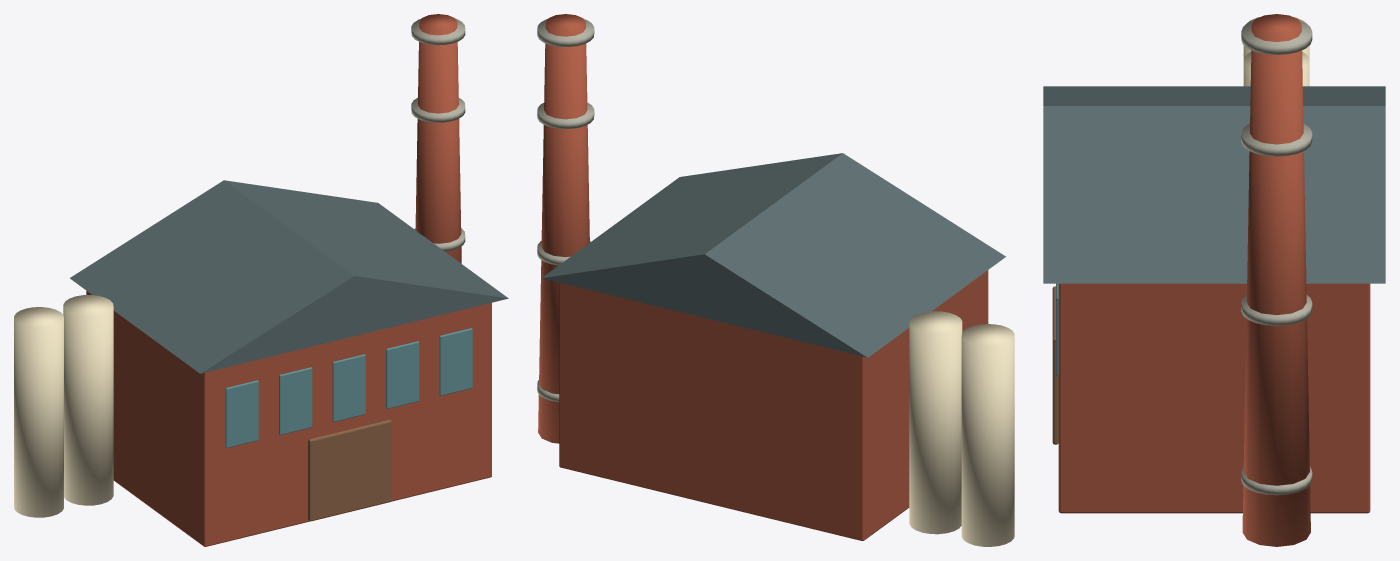
File: factory.glb
The picture shows the model from 3 angles, left to right: view 1: azimuth 30°, elevation 25°; view 2: azimuth 150°, elevation 25°; view 3: azimuth 270°, elevation 25°; orthographic projection. The views are drawn at different scales.
Visible parts, largest first — view 1: factory_red, factory_roof, factory_cream, factory_glass, factory_wood, factory_stone; view 2: factory_red, factory_roof, factory_cream, factory_stone; view 3: factory_red, factory_roof, factory_stone, factory_wood, factory_cream.
Part boxes in pixels (left/top/right/bottom): factory_red: left=86, top=14, right=491, bottom=546; factory_roof: left=70, top=180, right=508, bottom=373; factory_cream: left=14, top=295, right=113, bottom=517; factory_glass: left=225, top=328, right=472, bottom=448; factory_wood: left=308, top=419, right=391, bottom=521; factory_stone: left=411, top=18, right=465, bottom=251; factory_red: left=538, top=14, right=988, bottom=540; factory_roof: left=542, top=153, right=1005, bottom=357; factory_cream: left=909, top=311, right=1014, bottom=546; factory_stone: left=537, top=19, right=594, bottom=402; factory_red: left=1058, top=14, right=1370, bottom=546; factory_roof: left=1043, top=86, right=1385, bottom=283; factory_stone: left=1241, top=20, right=1312, bottom=495; factory_wood: left=1052, top=286, right=1058, bottom=444; factory_cream: left=1243, top=17, right=1309, bottom=86.
Size of the model in its own units: 10.8 by 9 by 5.5.
